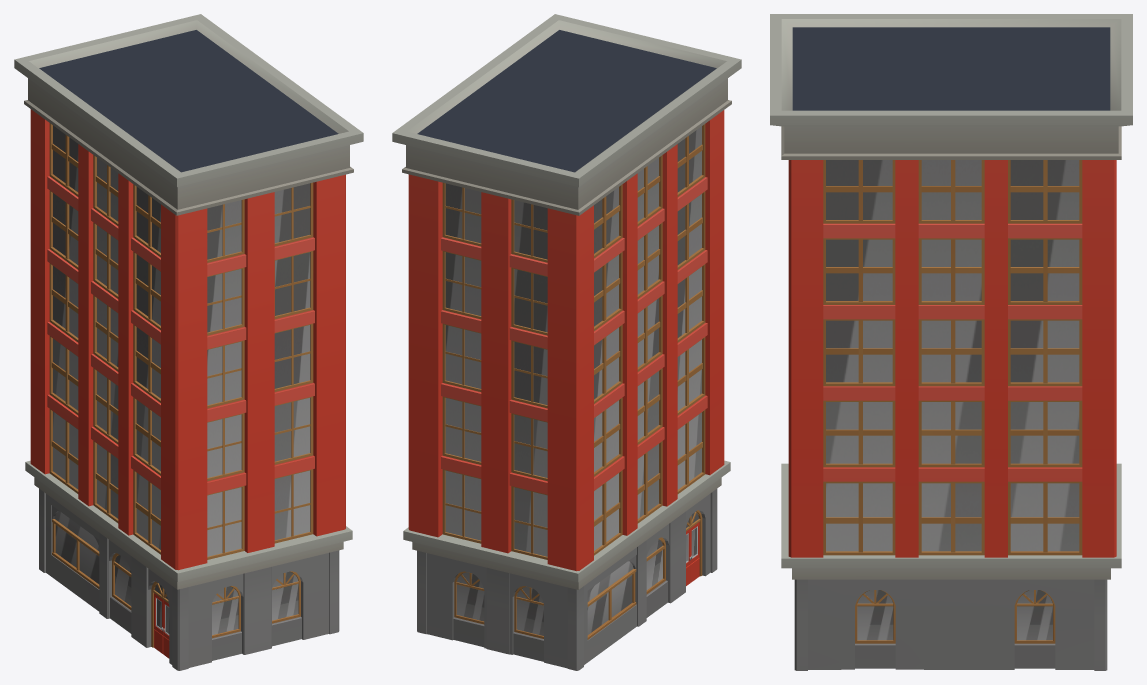
The model's file is Building_27_E.fbx.
3 renders of one model, left to right at view 1: azimuth 30°, elevation 25°; view 2: azimuth 150°, elevation 25°; view 3: azimuth 270°, elevation 25°, orthographic. The views are drawn at different scales.
Parts seen in each view (by area): view 1: Building_27_E; view 2: Building_27_E; view 3: Building_27_E.
Boxes of the visible parts, <box> form: Building_27_E: <box>14,14,363,670</box>; Building_27_E: <box>392,14,741,670</box>; Building_27_E: <box>770,14,1132,670</box>.
Size of the model in its own units: 765 by 1974 by 1155.
